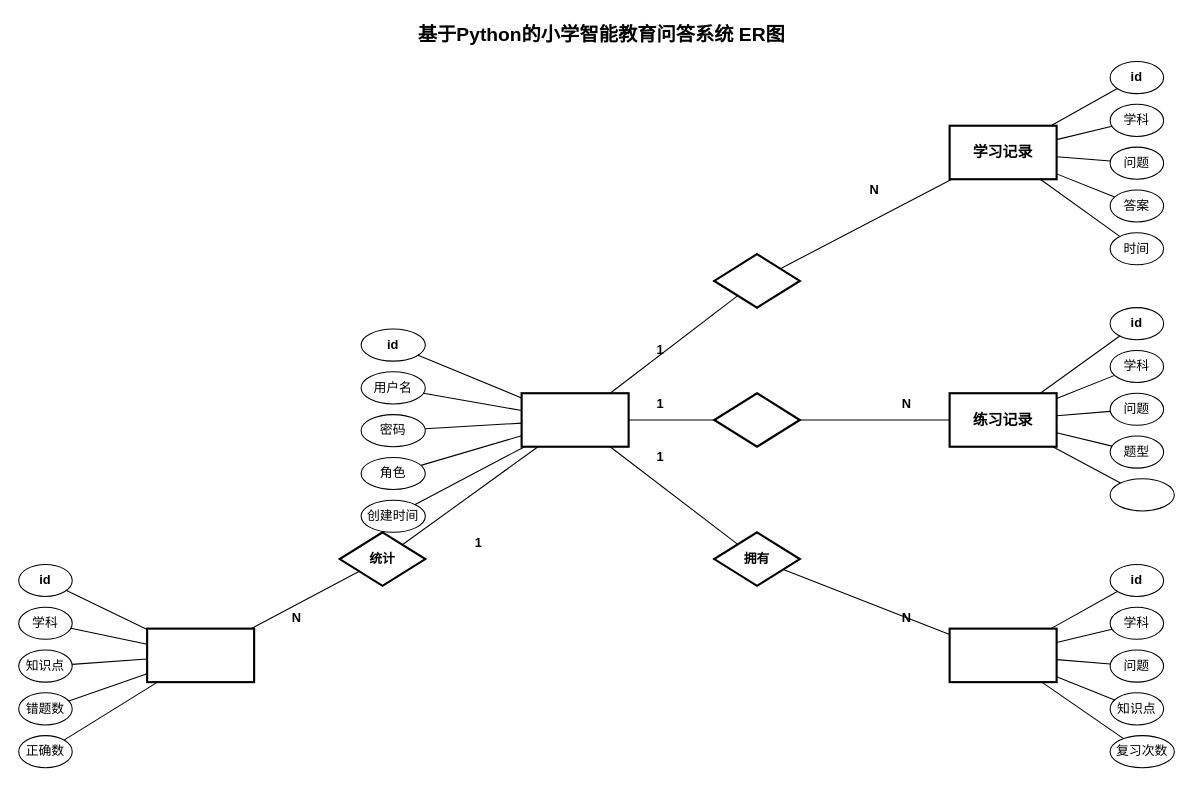
This 1193x786 diagram has some shape labels left out. Here are the shapes that lost their labels. From the top down, the centre of each, then its label:
[756,280]: 产生
[574,419]: 用户
[756,419]: 完成
[1141,494]: 是否正确
[200,655]: 知识点统计
[1002,655]: 错题
